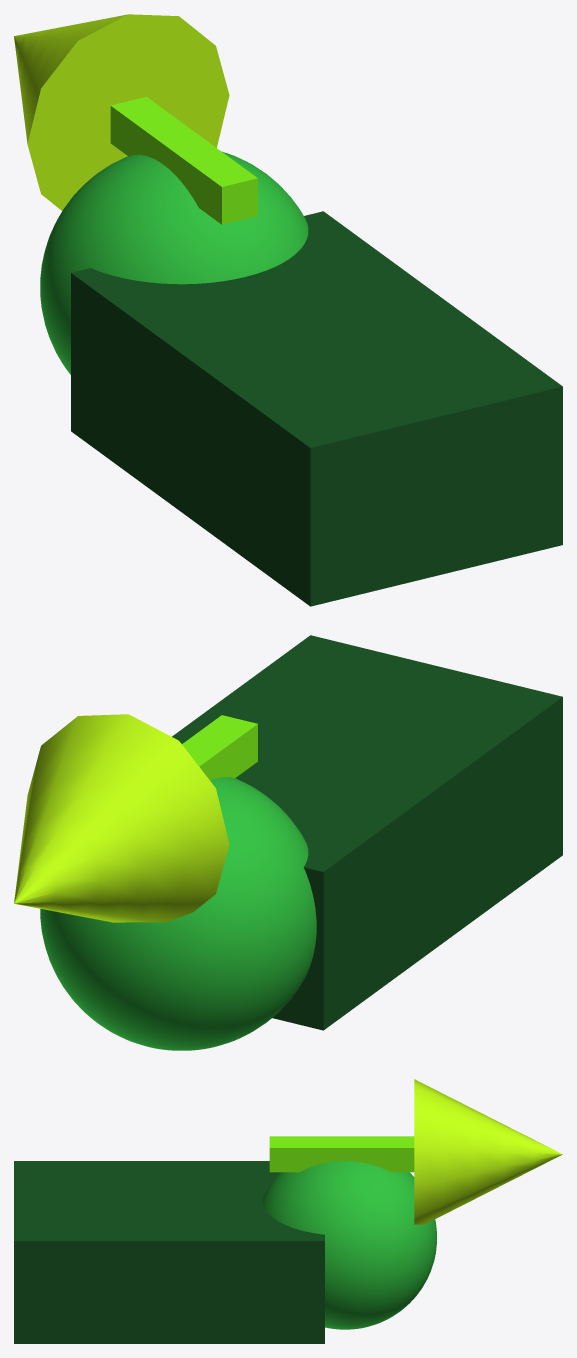
File: alien_spawn.glb
The picture shows the model from 3 angles, top to bottom: view 1: azimuth 30°, elevation 25°; view 2: azimuth 150°, elevation 25°; view 3: azimuth 270°, elevation 25°; orthographic projection. The views are drawn at different scales.
Visible parts, largest first — view 1: CrawlerBody, ForwardArrowHead, ForwardHead, ForwardShaft; view 2: CrawlerBody, ForwardHead, ForwardArrowHead, ForwardShaft; view 3: CrawlerBody, ForwardHead, ForwardArrowHead, ForwardShaft.
Boxes of the visible parts, <box> form: CrawlerBody: <box>71,211,562,606</box>; ForwardArrowHead: <box>14,14,229,210</box>; ForwardHead: <box>40,151,308,374</box>; ForwardShaft: <box>110,96,257,224</box>; CrawlerBody: <box>172,635,562,1030</box>; ForwardHead: <box>40,777,316,1050</box>; ForwardArrowHead: <box>14,714,229,922</box>; ForwardShaft: <box>182,715,257,780</box>; CrawlerBody: <box>14,1161,324,1343</box>; ForwardHead: <box>263,1161,436,1329</box>; ForwardArrowHead: <box>414,1079,562,1224</box>; ForwardShaft: <box>269,1136,414,1172</box>.
Bounding box in the file's own units: 0.7 × 0.96 × 2.03.
Materials: 4 (4 with a texture image).
